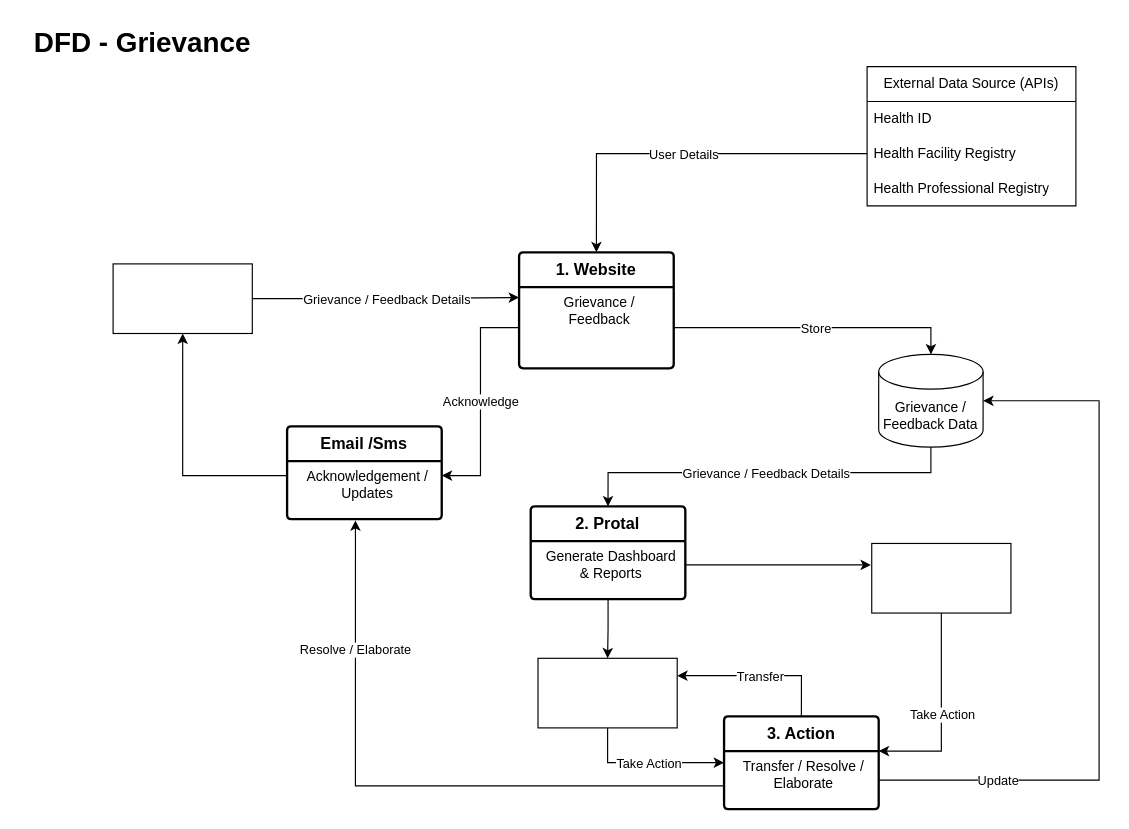
Image size: 1129x829. Some labels were removed from this diagram. Each missing label, with the box of its shape:
FL: (537, 657, 677, 728)
GRO: (871, 542, 1011, 613)
User: (112, 263, 252, 334)
